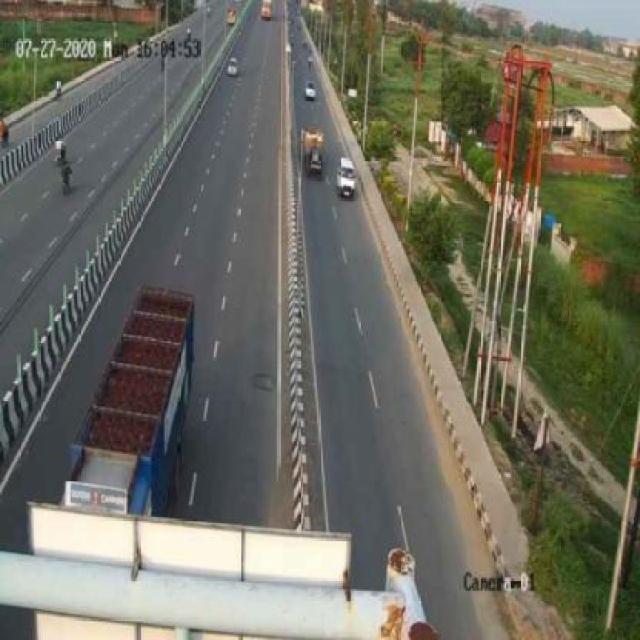car: (337, 160, 358, 200), (302, 75, 318, 103), (228, 52, 242, 82)
